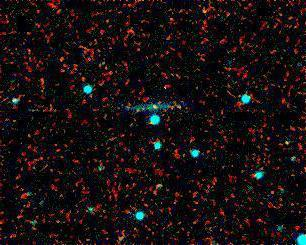star: (191, 0, 221, 21)
